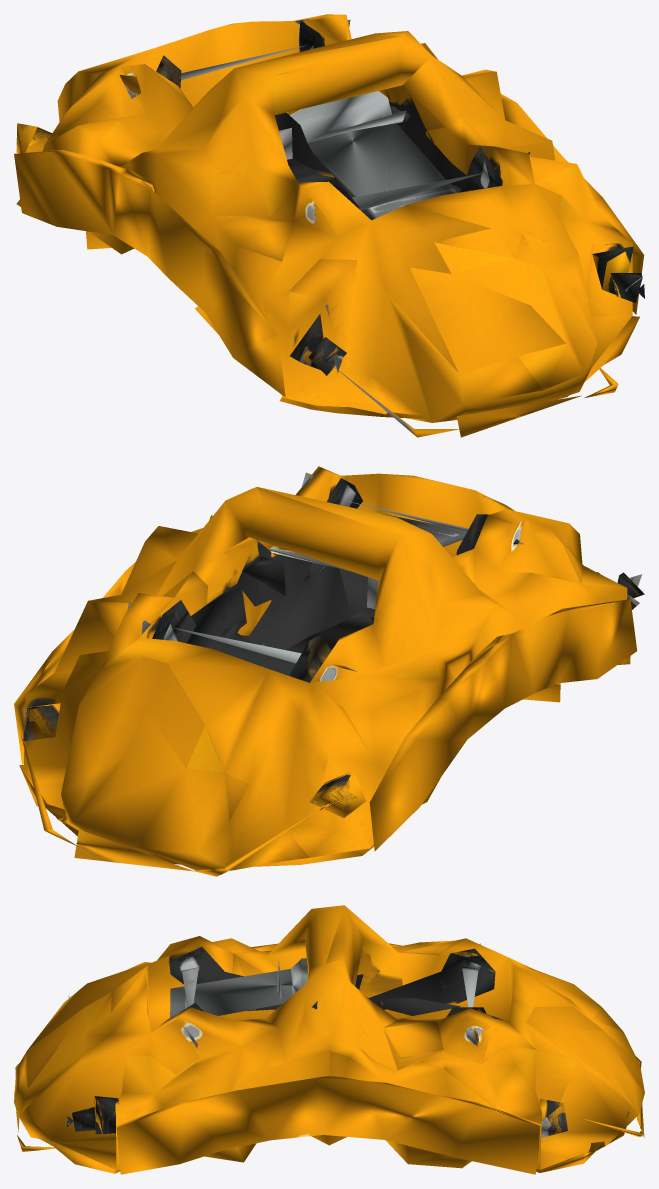
File: brake_caliper_orange.obj
3 views of the same model, one above another, from view 1: azimuth 30°, elevation 25°; view 2: azimuth 150°, elevation 25°; view 3: azimuth 270°, elevation 25° (orthographic). The views are drawn at different scales.
Visible parts, largest first — view 1: part; view 2: part; view 3: part.
Part boxes in pixels (x1,y1,x2,y2): part: [14, 14, 644, 437]; part: [14, 466, 644, 876]; part: [14, 905, 644, 1174].
Size of the model in its own units: 0.1512 by 0.0883 by 0.2787.
